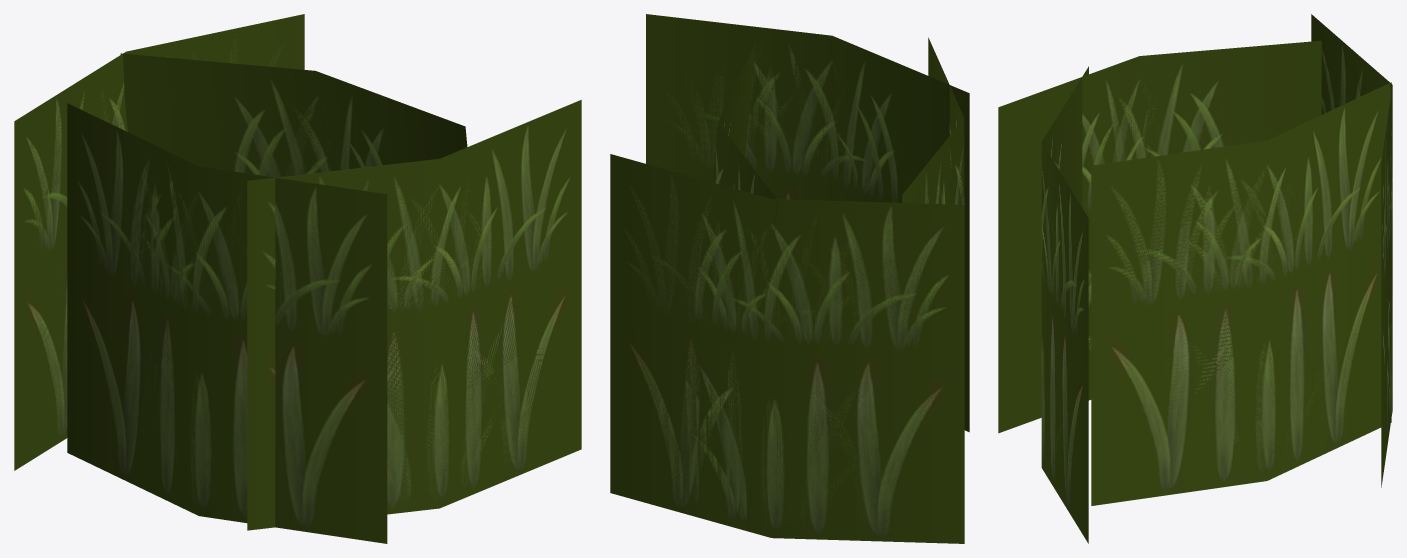
The model's file is grass.FBX.
3 renders of one model, left to right at view 1: azimuth 30°, elevation 25°; view 2: azimuth 150°, elevation 25°; view 3: azimuth 270°, elevation 25°, orthographic. The views are drawn at different scales.
Visible parts, largest first — view 1: Plane003; view 2: Plane003; view 3: Plane003.
Boxes of the visible parts, <box> form: Plane003: <box>14,14,581,543</box>; Plane003: <box>610,14,969,543</box>; Plane003: <box>998,14,1392,543</box>.
Bounding box in the file's own units: 40.22 × 30 × 32.87.
